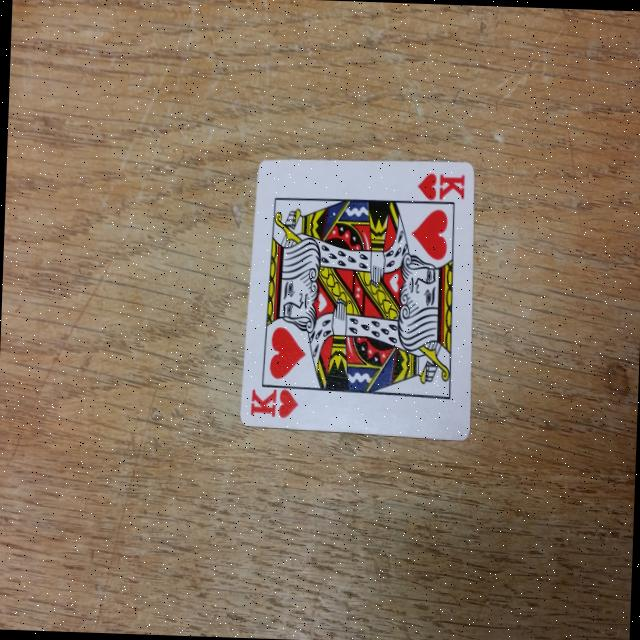Kh: (242, 376, 304, 432), (409, 160, 468, 218)
